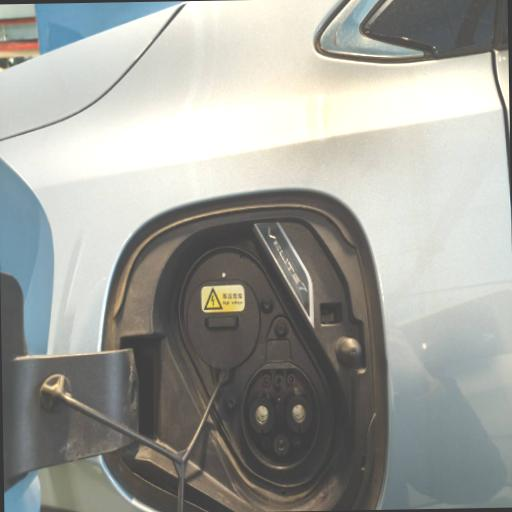DC_hole: (285, 396, 313, 434), (248, 398, 276, 434)
PE: (274, 434, 291, 457)
charging_port: (239, 358, 323, 472)
